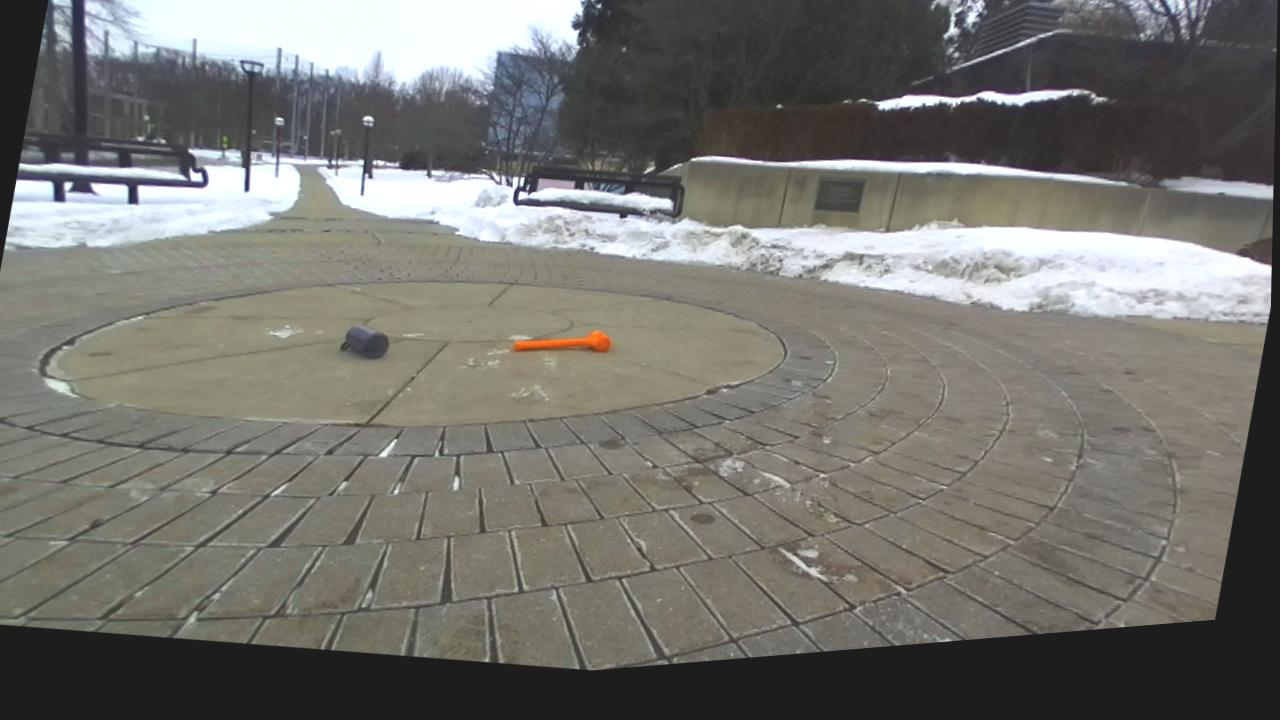bottle: (341, 325, 389, 358)
mallet: (514, 330, 610, 351)
